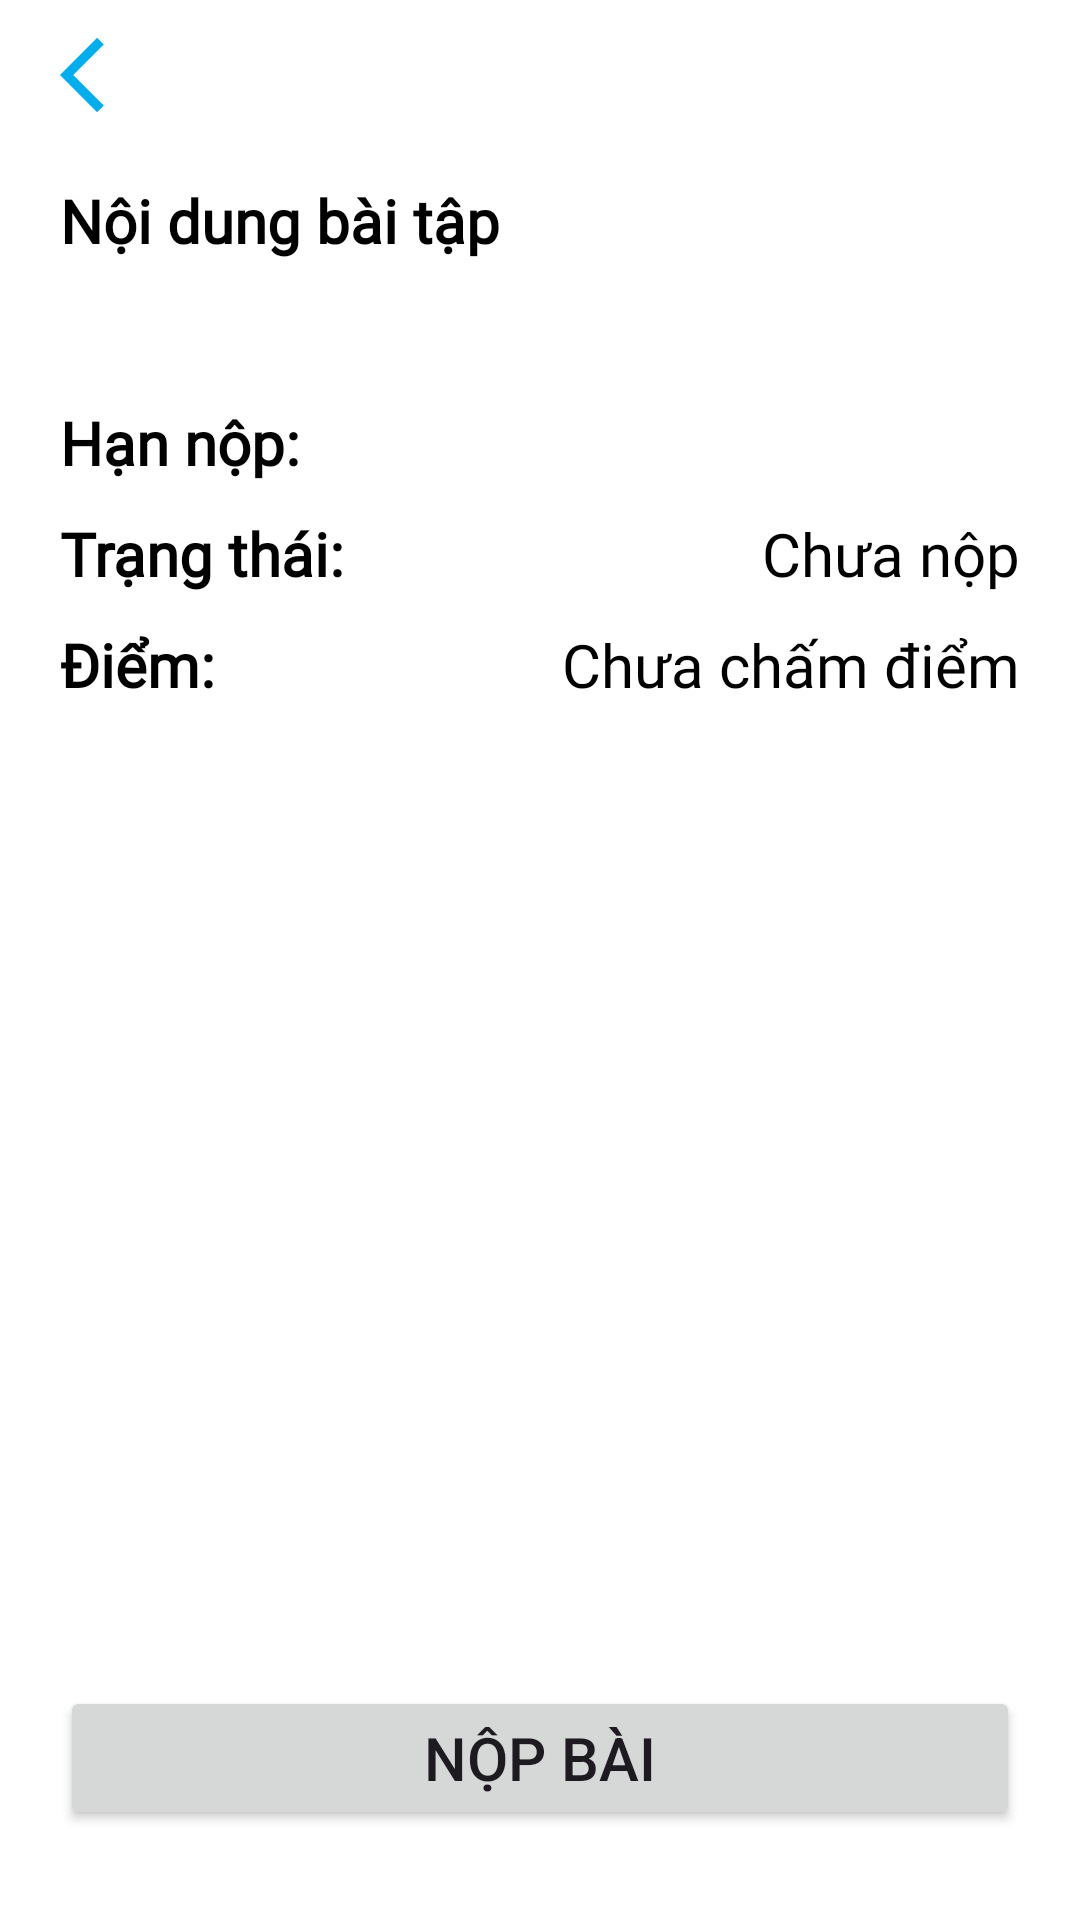

Named icons in this screenshot (1080px×1920px) and their centers, (x=x, y=y):
back: (x=82, y=75)
